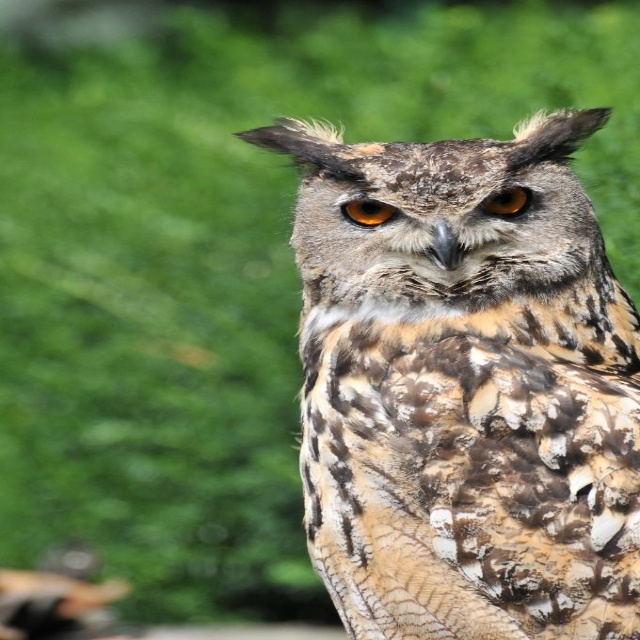Owl: (232, 105, 639, 640)
